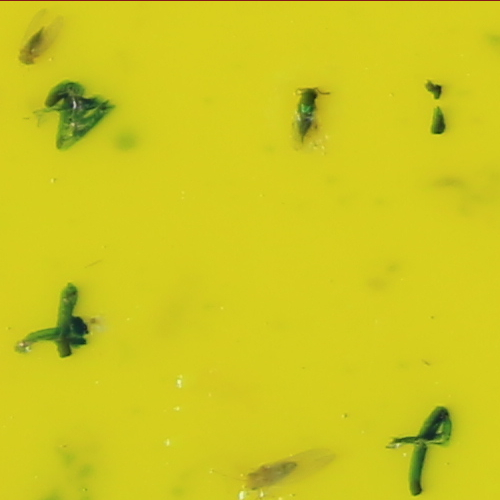psylla: (245, 458, 300, 492), (16, 25, 45, 65)
wasp: (289, 85, 324, 142)
